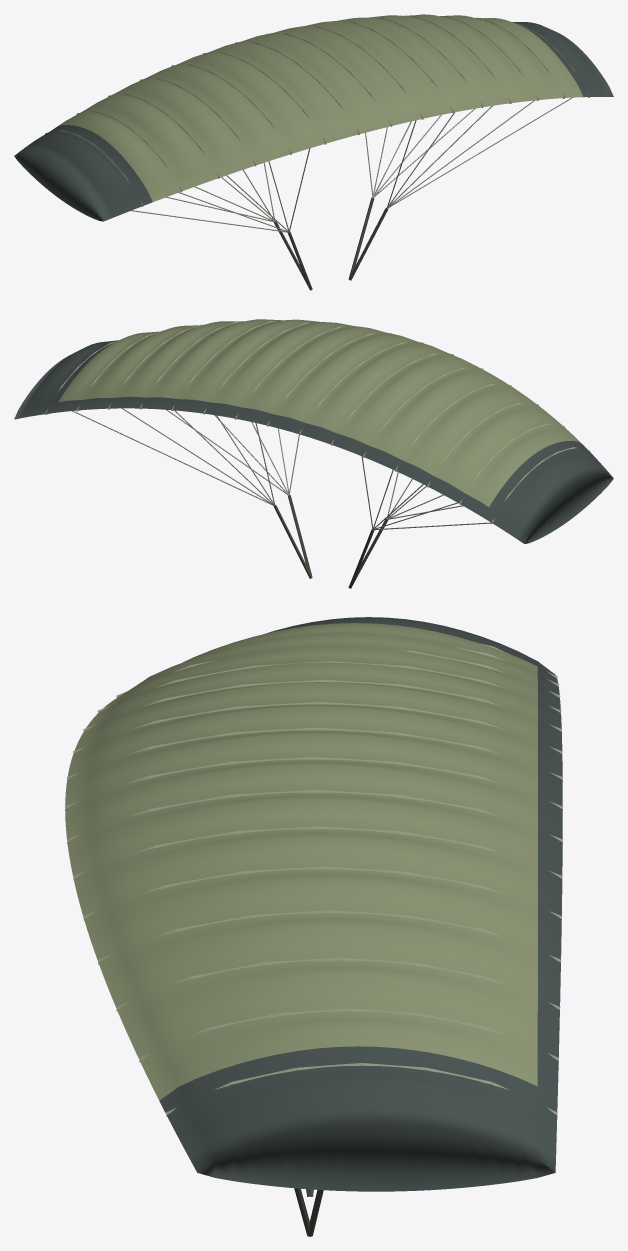
File: ZW_Parachute_Canopy.fbx
The picture shows the model from 3 angles, top to bottom: view 1: azimuth 30°, elevation 25°; view 2: azimuth 150°, elevation 25°; view 3: azimuth 270°, elevation 25°; orthographic projection. The views are drawn at different scales.
Visible parts, largest first — view 1: Wing_LOD0, Lines_LOD0, Seams_LOD0; view 2: Wing_LOD0, Lines_LOD0, Seams_LOD0; view 3: Wing_LOD0, Seams_LOD0.
Part boxes in pixels (x1,y1,x2,y2): Wing_LOD0: (14, 14, 613, 221); Lines_LOD0: (131, 97, 572, 290); Seams_LOD0: (45, 16, 589, 206); Wing_LOD0: (14, 319, 613, 543); Lines_LOD0: (72, 408, 491, 588); Seams_LOD0: (45, 321, 590, 523); Wing_LOD0: (65, 617, 562, 1191); Seams_LOD0: (65, 643, 563, 1116).
Size of what is drawn, in the model's own units: 604 by 264 by 256.
